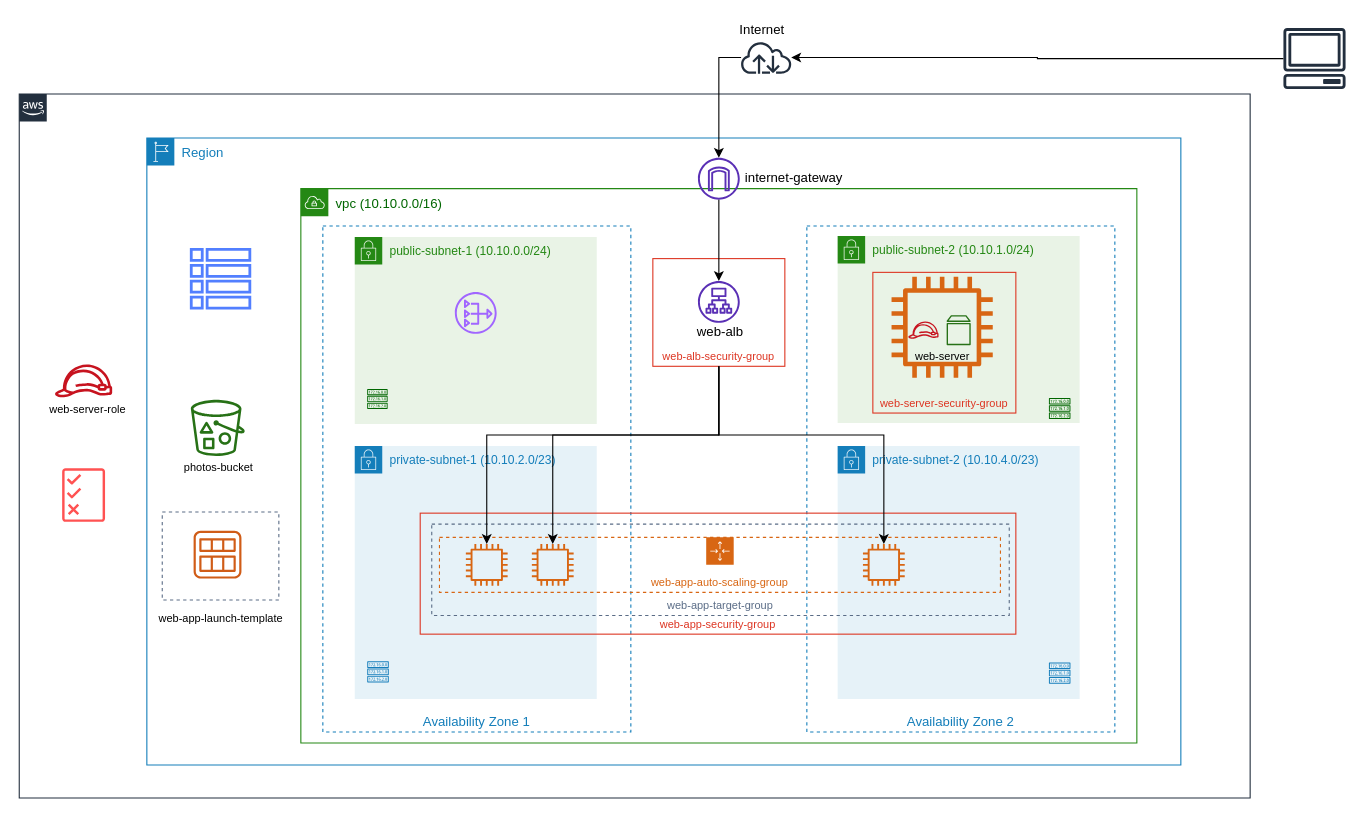
The diagram is 1365 pixels wide and 817 high, and some of its shapes have lost their labels. Each missing label, with the centre of its shape:
employees-table: (x=220, y=278)
nat-gateway: (x=475, y=312)
web-server-policy: (x=83, y=495)
